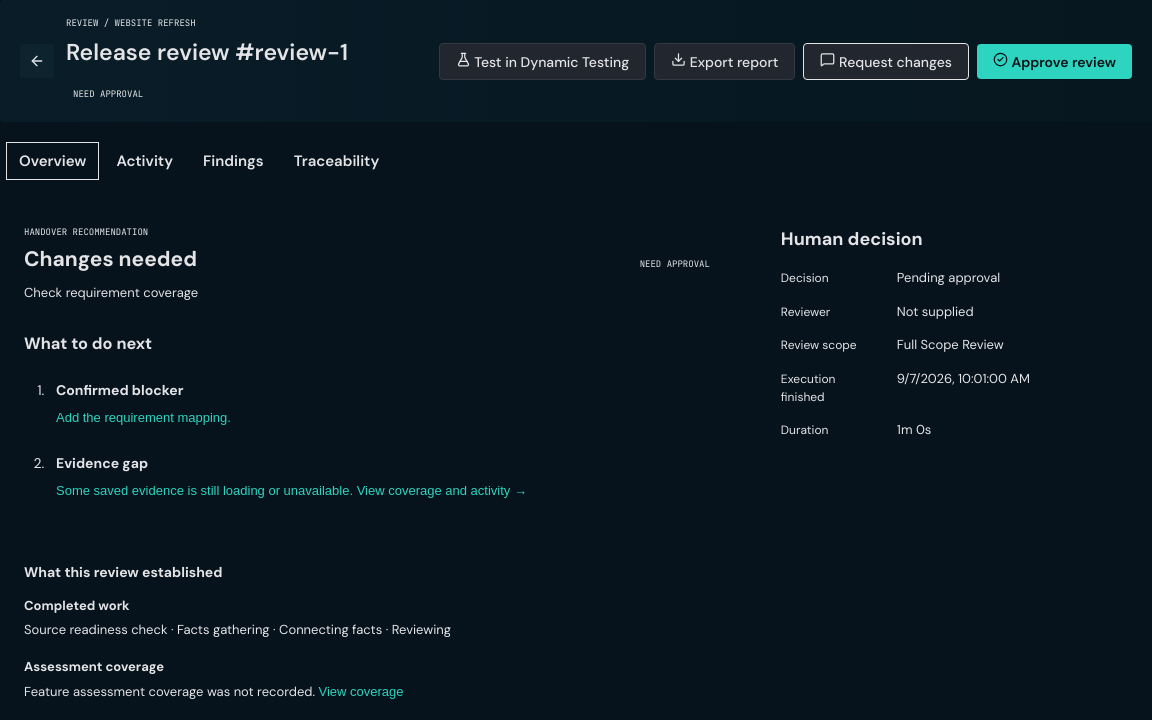
Test case: ReviewActivityScreen › opens Request Changes with an explicit frozen-source choice and no model execution
The image size is (1152, 720).
Check: the heading "Changes needed" is shown, box [24,244,198,275]
Click the button with test id "review-decision-reject".
click(886, 61)  # box [804,42,969,80]
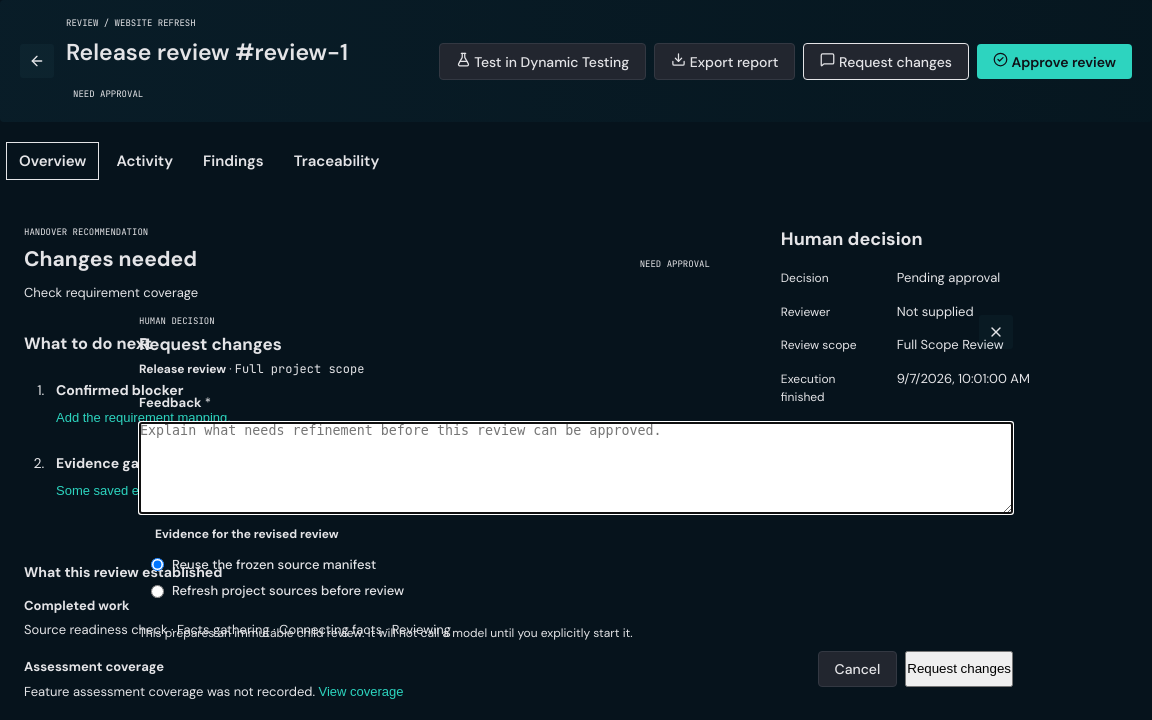
Check: the radio button labelled "Reuse the frozen source manifest" is checked, box [151,558,164,571]
Check: the text "will not call a model until you explicitly start it" is shown, box [139,625,633,641]
